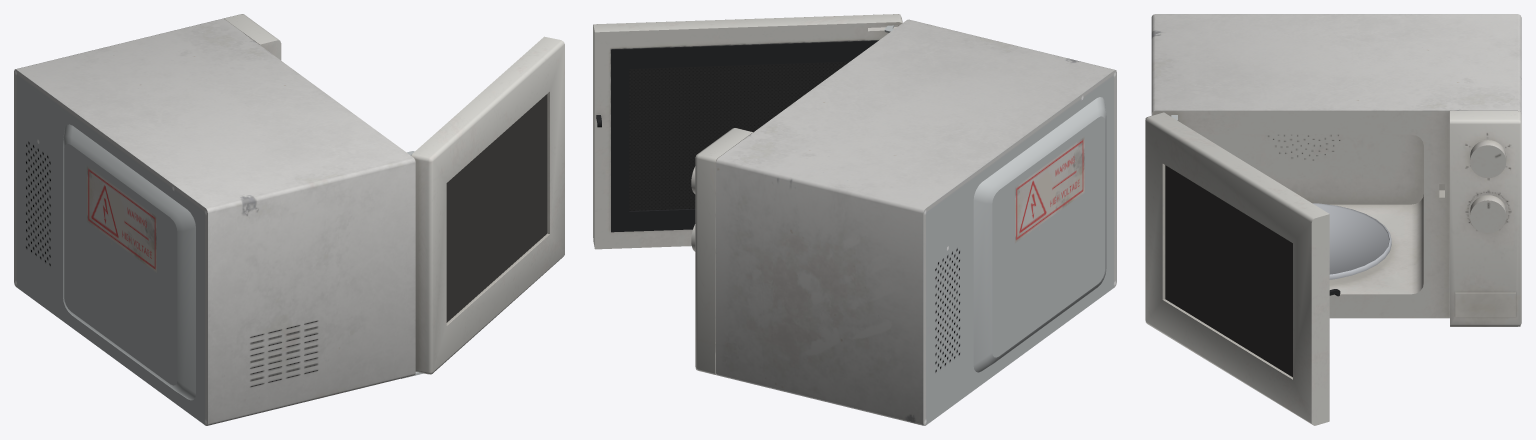
Rendered from Mircoondas.obj.
3 renders of one model, left to right at view 1: azimuth 30°, elevation 25°; view 2: azimuth 150°, elevation 25°; view 3: azimuth 270°, elevation 25°, orthographic. The views are drawn at different scales.
Visible parts, largest first — view 1: Oven, Door; view 2: Oven, Door; view 3: Oven, Door, Plate.
Boxes of the visible parts, x1,y1,x2,y2 form: Oven: (14,14,423,425); Door: (411,36,564,374); Oven: (691,19,1116,425); Door: (593,14,902,249); Oven: (1151,14,1521,326); Door: (1145,112,1340,425); Plate: (1313,203,1391,279).
Bounding box in the file's own units: 1.06 × 0.4972 × 0.8004.
